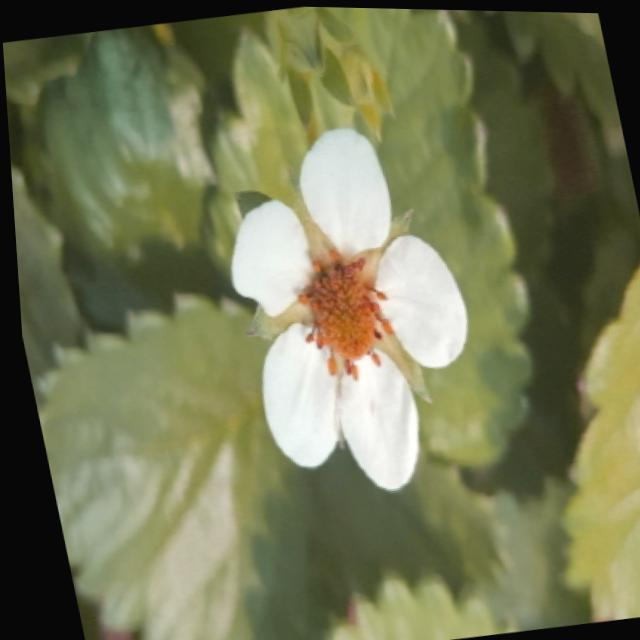Blossom Blight: (289, 245, 393, 382)
